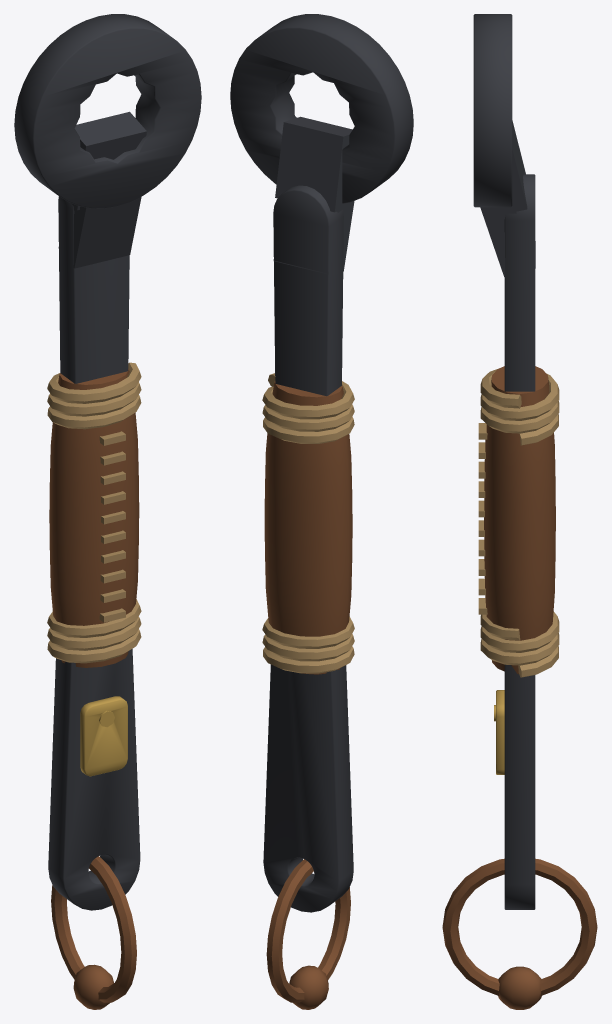
Rendered from tool_wrench_ring.fbx.
3 renders of one model, left to right at view 1: azimuth 30°, elevation 25°; view 2: azimuth 150°, elevation 25°; view 3: azimuth 270°, elevation 25°, orthographic. The views are drawn at different scales.
Visible parts, largest first — view 1: Tool_Wrench_Ring_Body, Tool_Wrench_Ring_Grip, Tool_Wrench_Ring_Lashing, Tool_Wrench_Ring_Thong, Tool_Wrench_Ring_Tag; view 2: Tool_Wrench_Ring_Body, Tool_Wrench_Ring_Grip, Tool_Wrench_Ring_Lashing, Tool_Wrench_Ring_Thong; view 3: Tool_Wrench_Ring_Body, Tool_Wrench_Ring_Grip, Tool_Wrench_Ring_Lashing, Tool_Wrench_Ring_Thong, Tool_Wrench_Ring_Tag.
Part boxes in pixels (x1,y1,x2,y2): Tool_Wrench_Ring_Body: (14,14,201,910); Tool_Wrench_Ring_Grip: (49,368,139,667); Tool_Wrench_Ring_Lashing: (47,362,141,663); Tool_Wrench_Ring_Thong: (51,856,136,1009); Tool_Wrench_Ring_Tag: (80,696,127,776); Tool_Wrench_Ring_Body: (230,14,413,912); Tool_Wrench_Ring_Grip: (264,381,352,674); Tool_Wrench_Ring_Lashing: (262,373,354,673); Tool_Wrench_Ring_Thong: (266,859,350,1009); Tool_Wrench_Ring_Body: (473,14,535,909); Tool_Wrench_Ring_Grip: (484,366,555,674); Tool_Wrench_Ring_Lashing: (478,369,559,677); Tool_Wrench_Ring_Thong: (442,858,597,1009); Tool_Wrench_Ring_Tag: (494,690,504,774).
Bounding box in the file's own units: 10 × 56.26 × 8.02.
